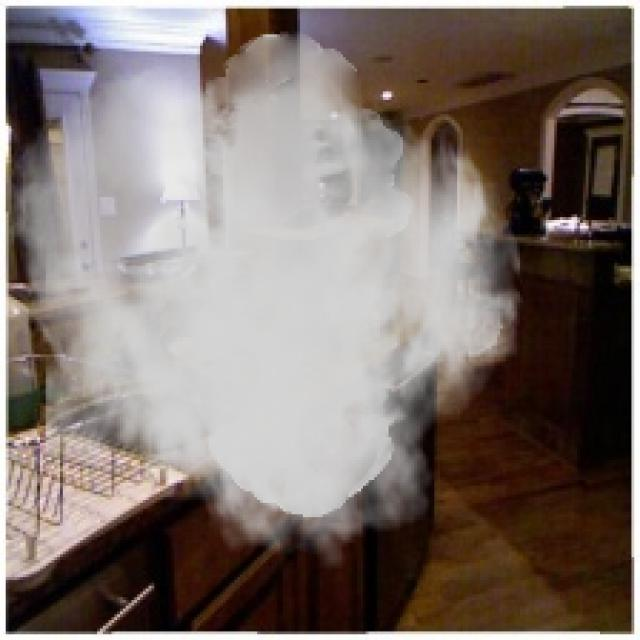smoke: (0, 31, 529, 572)
